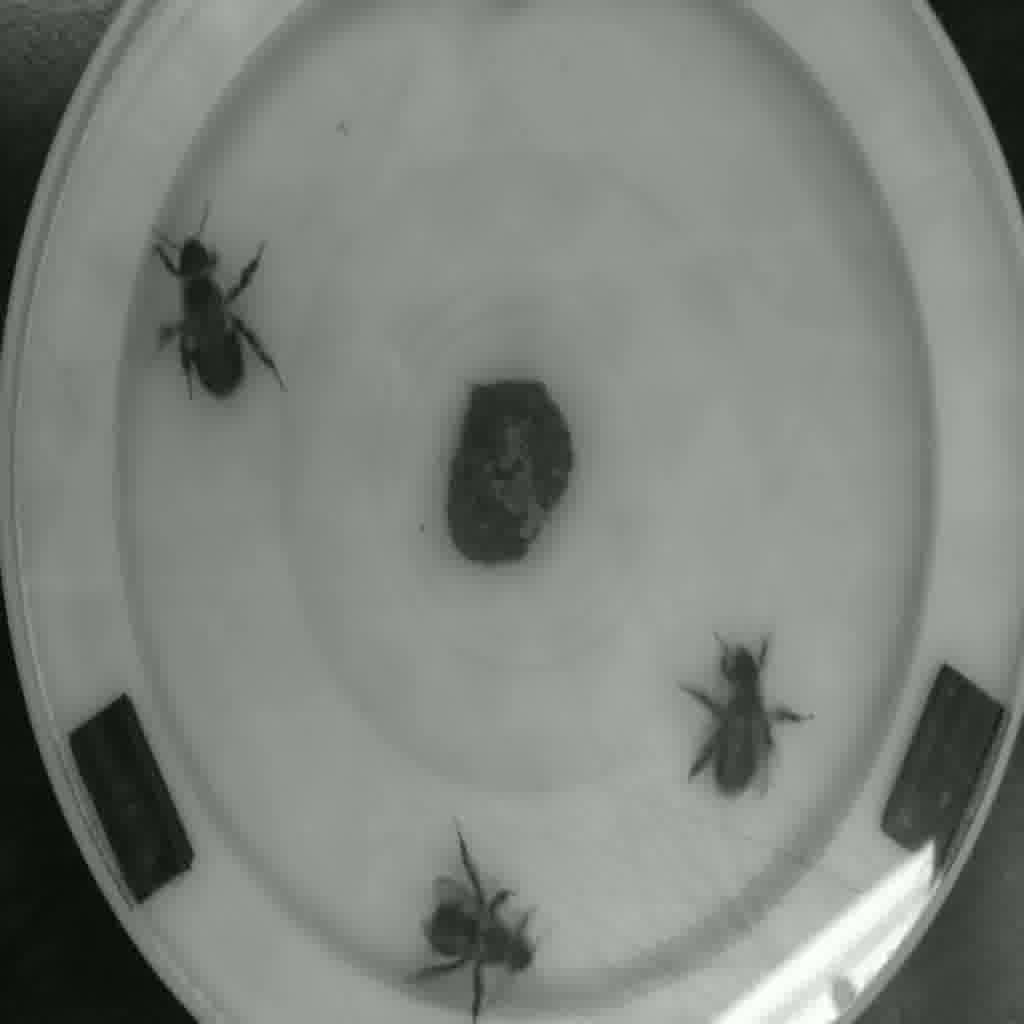bee: (400, 822, 574, 1022), (148, 215, 307, 417), (671, 619, 808, 805)
